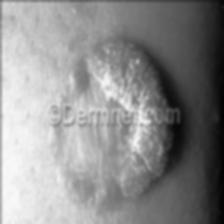Toxin: (86, 39, 174, 106), (122, 127, 176, 194)
